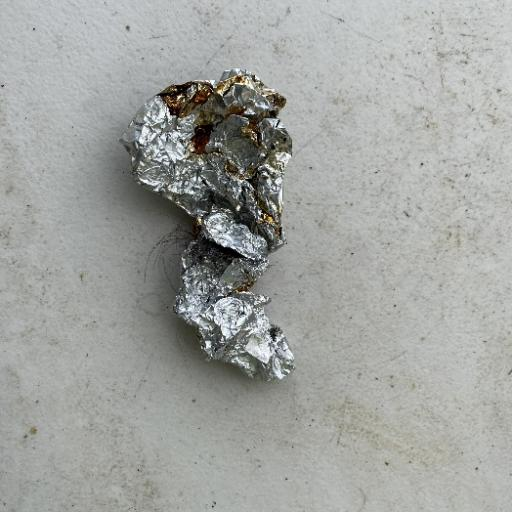Metal: (117, 66, 298, 383)
